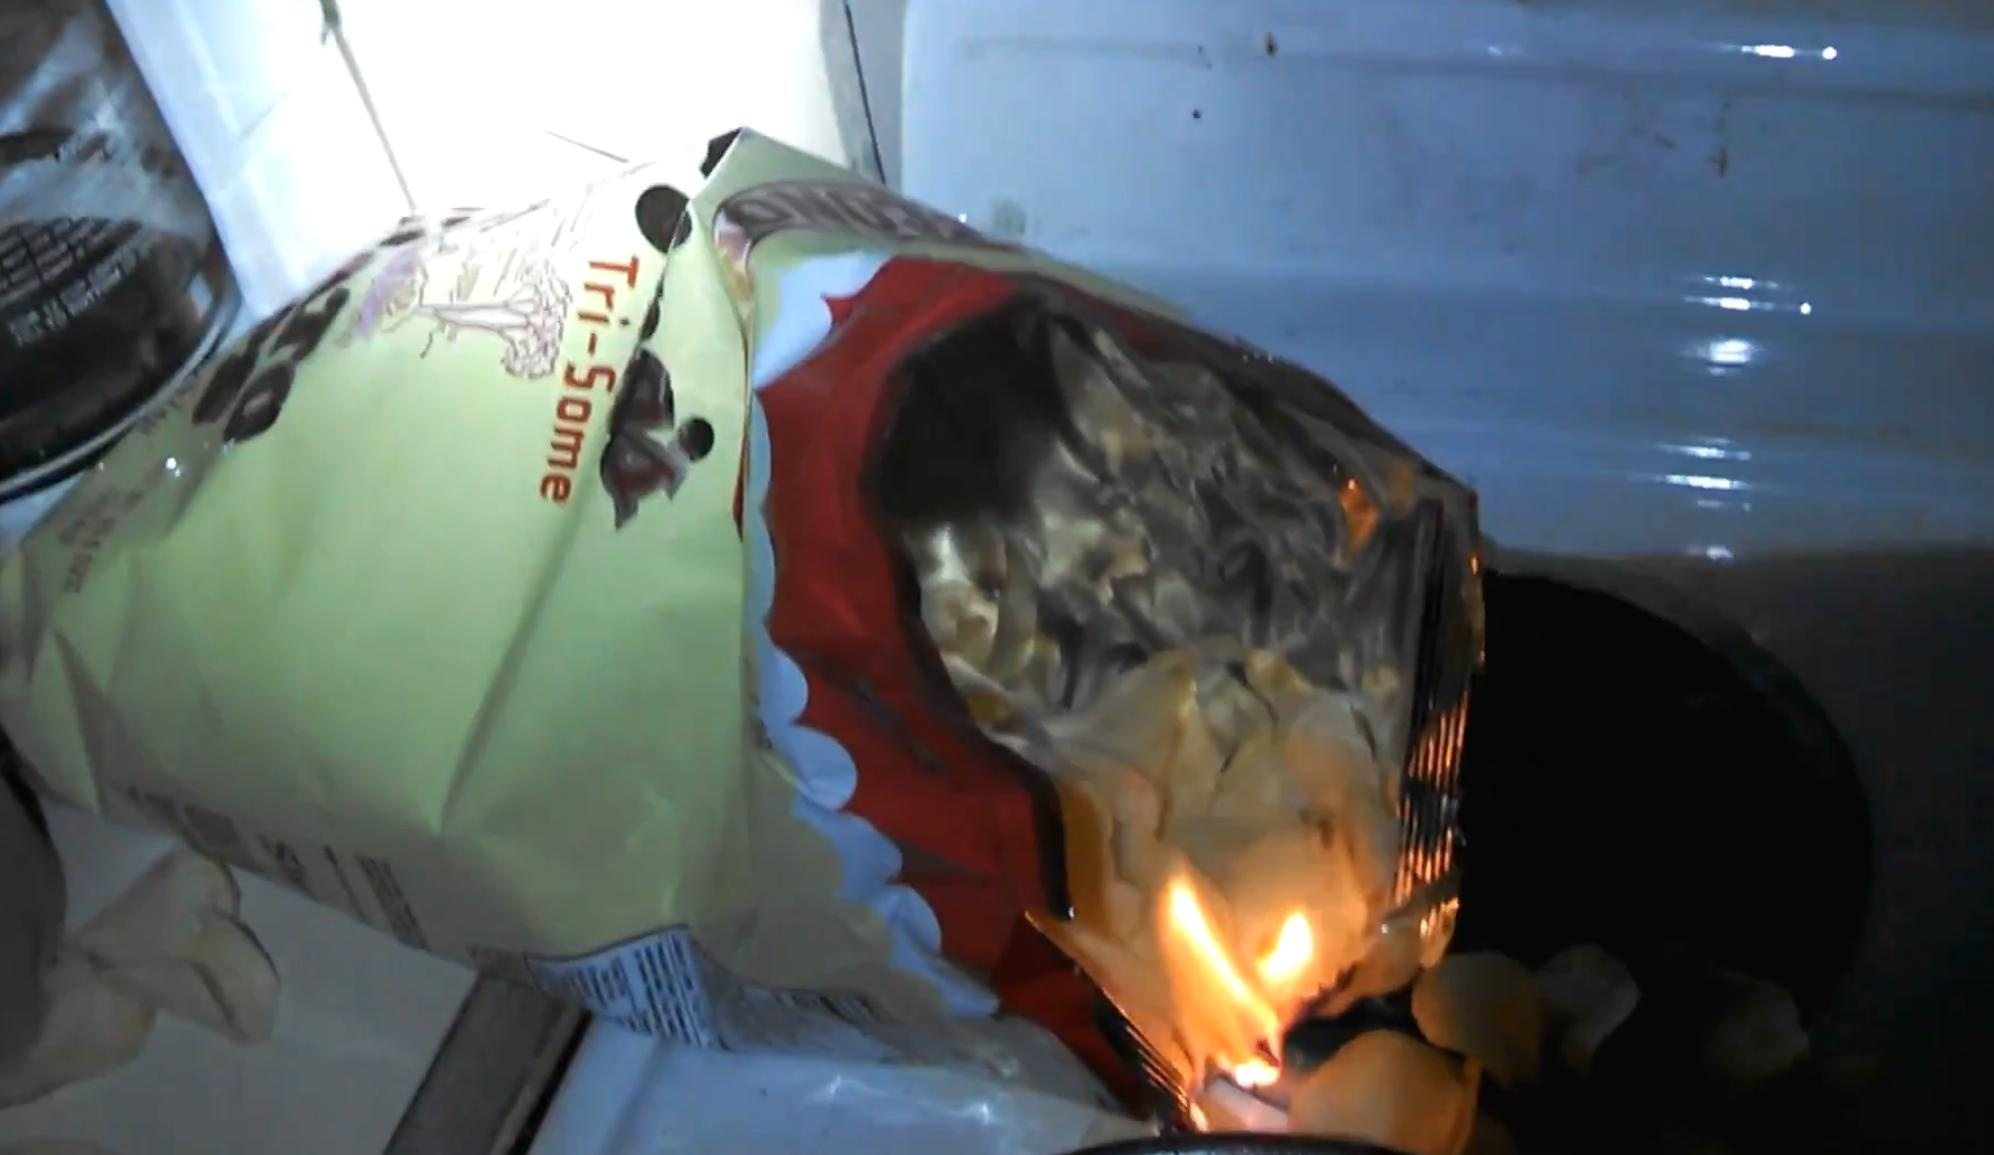fire: (1152, 868, 1311, 1075)
